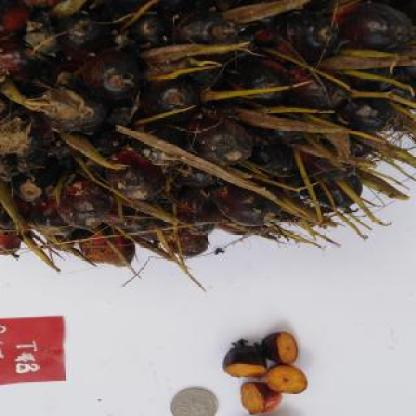Unripe: (0, 0, 416, 243)
